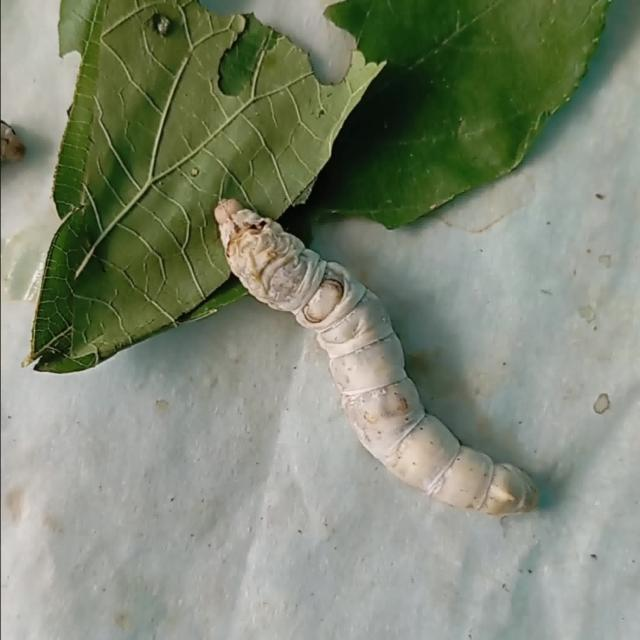Grasserie: (208, 178, 550, 527)
